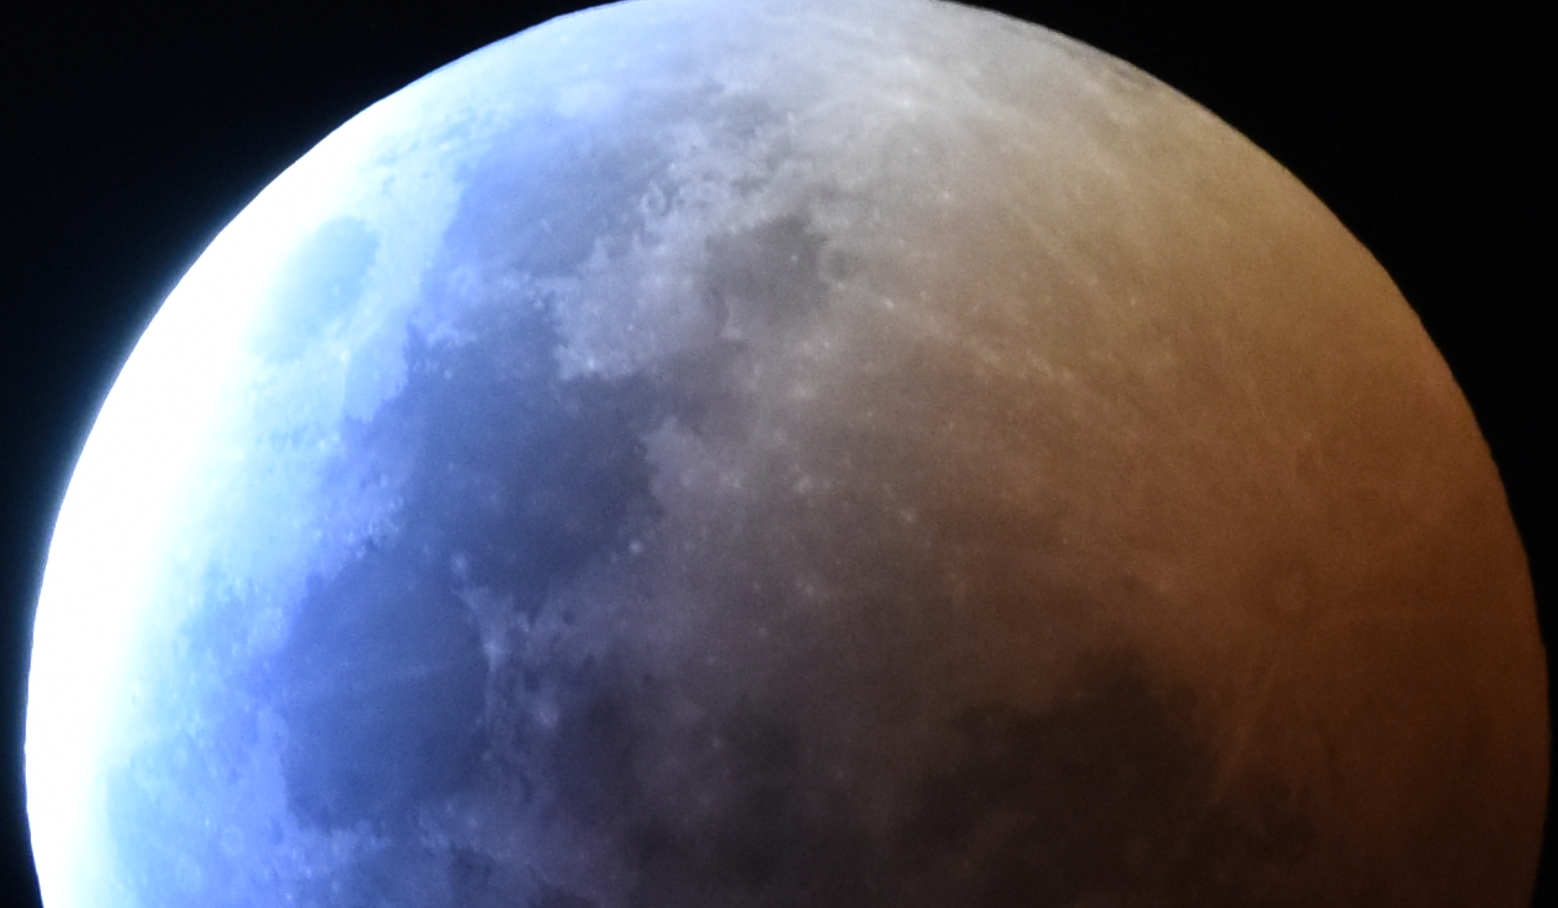crater: (1133, 340, 1431, 847), (224, 536, 536, 858), (508, 643, 669, 868), (526, 61, 648, 148), (842, 654, 934, 742), (844, 573, 917, 643), (157, 836, 218, 902), (816, 230, 868, 298), (876, 486, 927, 535), (612, 517, 656, 569), (785, 373, 835, 412), (886, 81, 938, 116), (930, 172, 968, 215), (572, 339, 613, 378), (872, 288, 912, 324), (552, 596, 586, 631), (748, 614, 781, 649)
